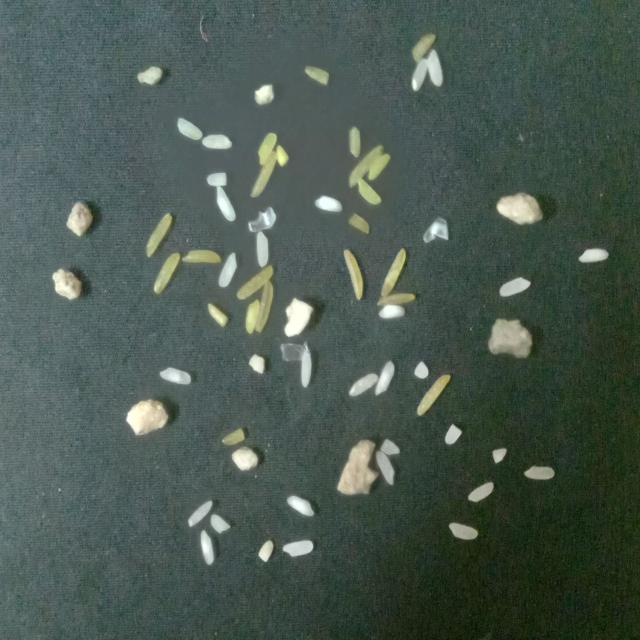Broken: (348, 145, 384, 188), (417, 374, 451, 416), (236, 265, 274, 300), (380, 248, 406, 298), (250, 151, 277, 198), (146, 212, 172, 258), (154, 252, 180, 294), (344, 249, 364, 300), (255, 281, 273, 333), (412, 33, 436, 64), (258, 132, 278, 166), (357, 178, 381, 205), (368, 153, 390, 181), (245, 299, 260, 335), (182, 250, 221, 263), (305, 65, 329, 85), (208, 304, 228, 328), (377, 293, 416, 305), (348, 213, 369, 234), (210, 514, 231, 534), (348, 126, 361, 158), (222, 428, 245, 446), (444, 424, 462, 445), (380, 438, 400, 456), (258, 540, 274, 562), (276, 144, 289, 168), (207, 172, 228, 186), (414, 360, 429, 379), (492, 448, 508, 464)
Full: (218, 252, 238, 288), (374, 361, 394, 397), (216, 186, 236, 221), (188, 500, 213, 528), (349, 373, 378, 397), (376, 450, 395, 486), (499, 277, 531, 298), (177, 116, 203, 140), (286, 496, 314, 517), (428, 48, 443, 87), (160, 367, 192, 385), (412, 58, 428, 92), (282, 540, 314, 557), (468, 482, 494, 502), (523, 465, 555, 481), (202, 134, 233, 150), (314, 195, 343, 212), (200, 530, 214, 565), (577, 248, 609, 263), (256, 231, 268, 268), (301, 349, 312, 389), (378, 304, 405, 320)
